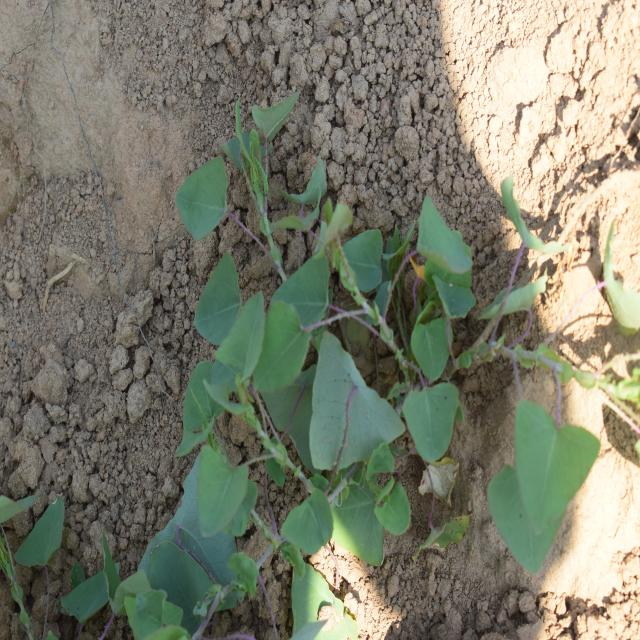Asiatic_Smartweed: (180, 104, 387, 529), (360, 188, 487, 472), (489, 334, 606, 578)
